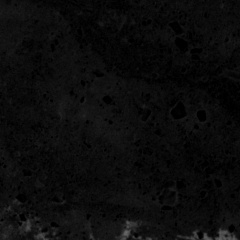Vegetation: (193, 232, 236, 240), (124, 224, 134, 239)
